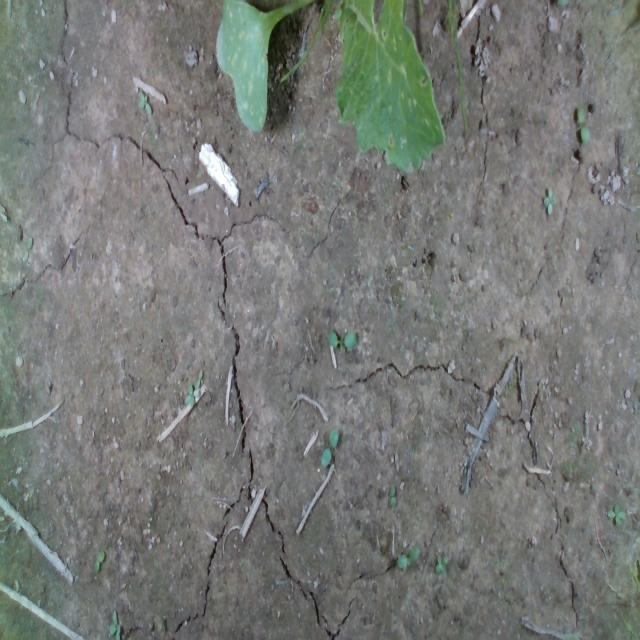weed: (319, 425, 339, 467)
